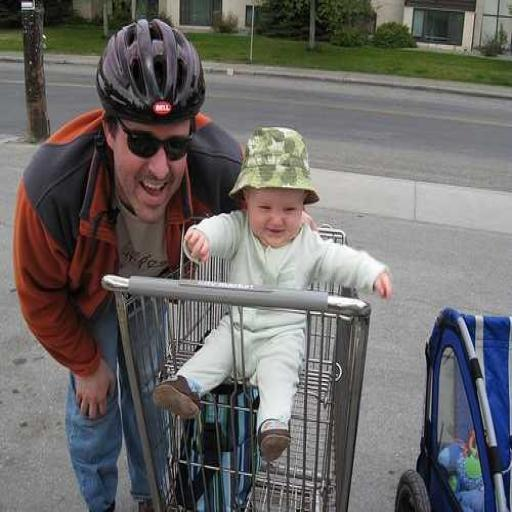shopping_cart: (99, 220, 374, 512)
